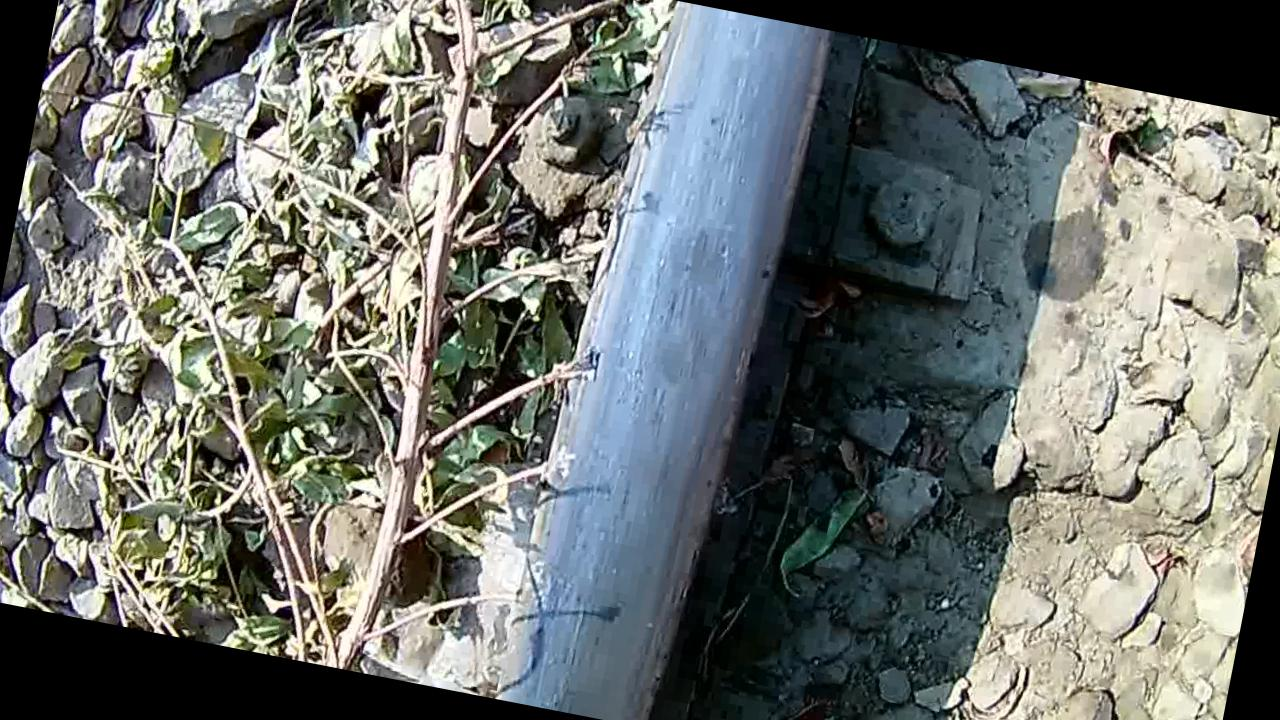bolt_missing: (564, 153, 792, 534)
